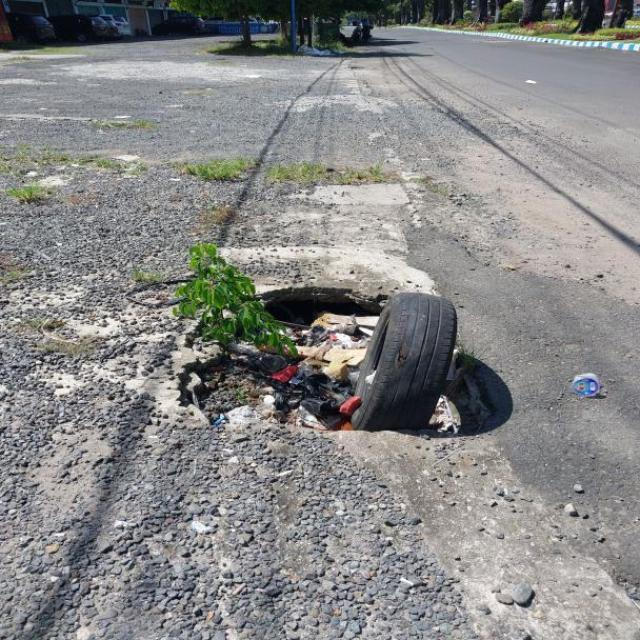pathole ahead at: (188, 248, 462, 444)
